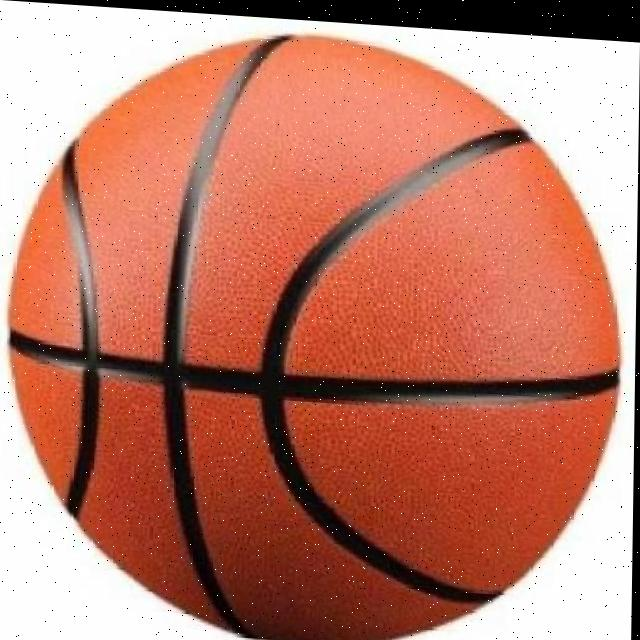Basketball: (4, 13, 631, 640)
